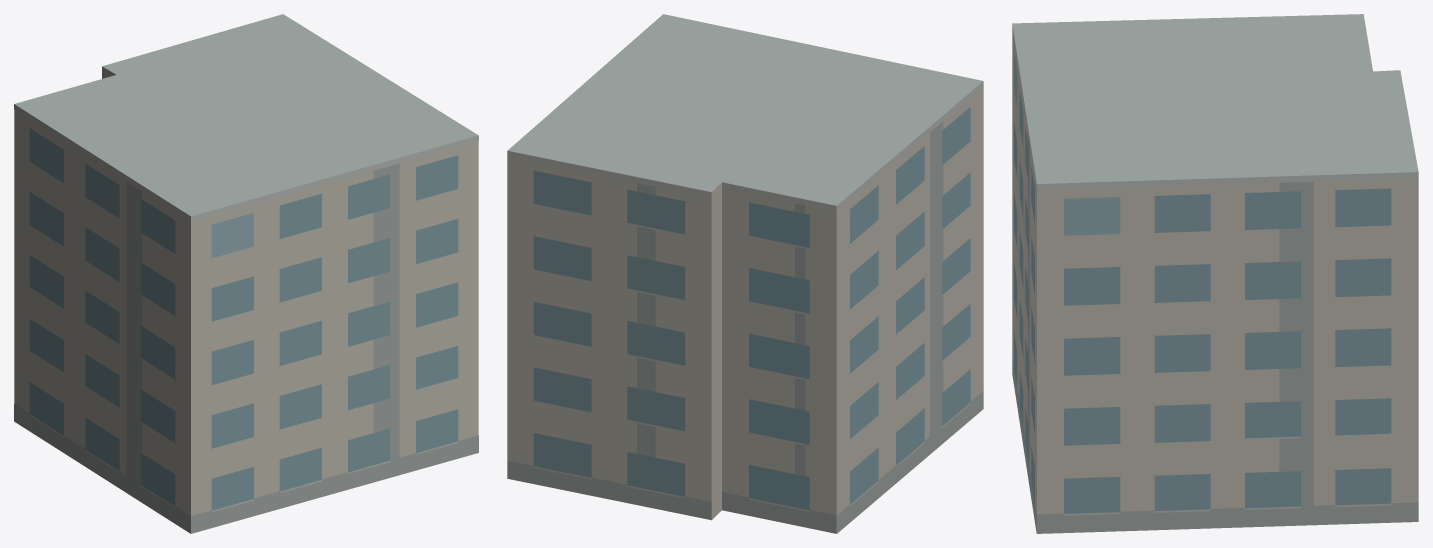
Rendered from survey-upis-32913504.glb.
3 renders of one model, left to right at view 1: azimuth 30°, elevation 25°; view 2: azimuth 150°, elevation 25°; view 3: azimuth 270°, elevation 25°, orthographic. The views are drawn at different scales.
Visible parts, largest first — view 1: survey-upis-32913504.tmp; view 2: survey-upis-32913504.tmp; view 3: survey-upis-32913504.tmp.
Part boxes in pixels (x1,y1,x2,y2): survey-upis-32913504.tmp: (14,14,478,533); survey-upis-32913504.tmp: (507,14,983,533); survey-upis-32913504.tmp: (1012,14,1418,533).
Bounding box in the file's own units: 13.93 × 13.35 × 14.07.
